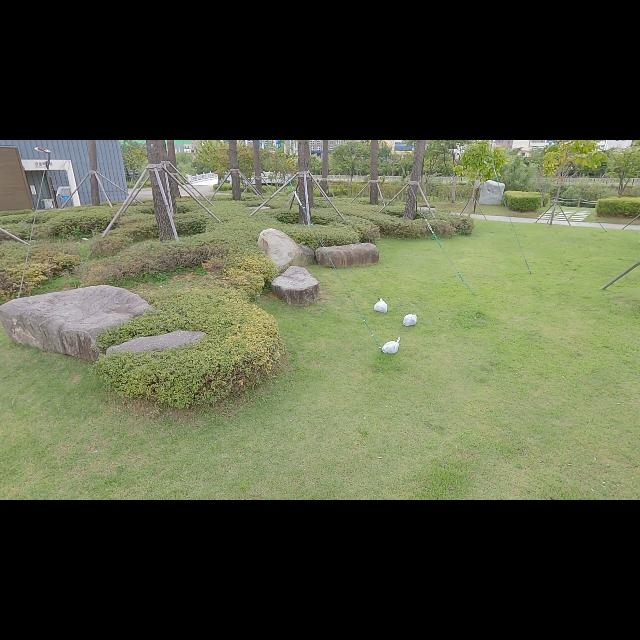trash: (382, 336, 402, 354), (374, 298, 388, 314), (404, 314, 418, 326)
